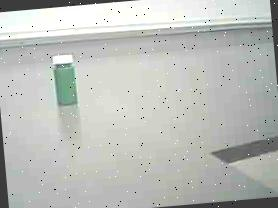Bottle C: (43, 48, 90, 113)
